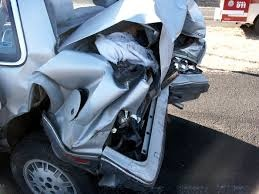Smashed: (24, 2, 203, 185)
